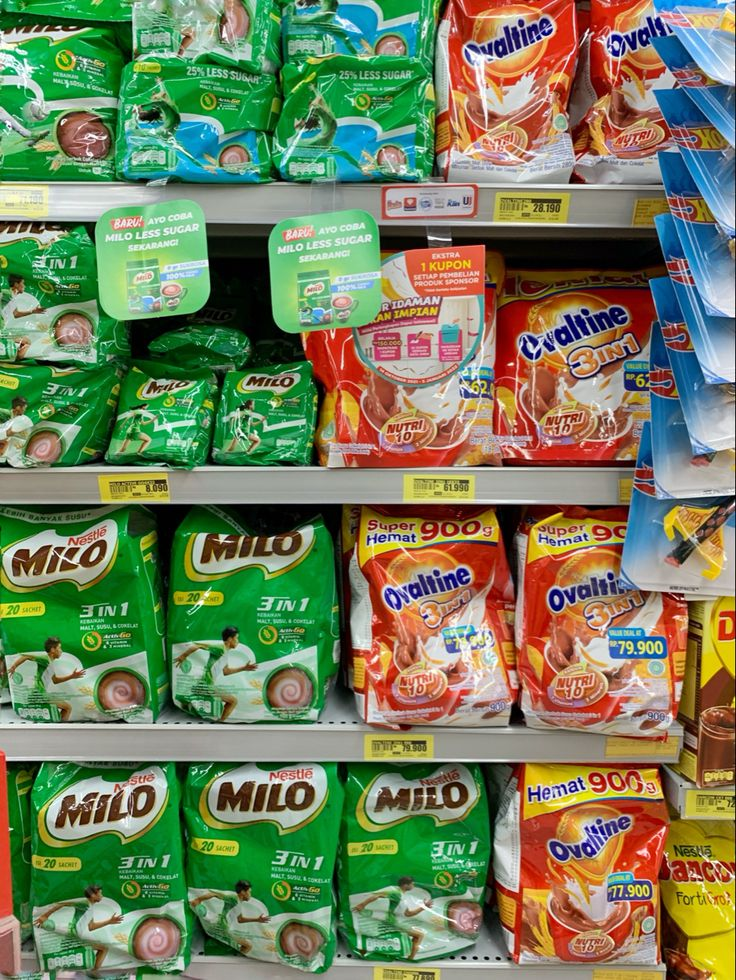Milo: (21, 753, 186, 904), (201, 753, 331, 877), (358, 751, 488, 875), (3, 503, 133, 627)
Ovaltine: (360, 535, 490, 659), (508, 273, 638, 397)
